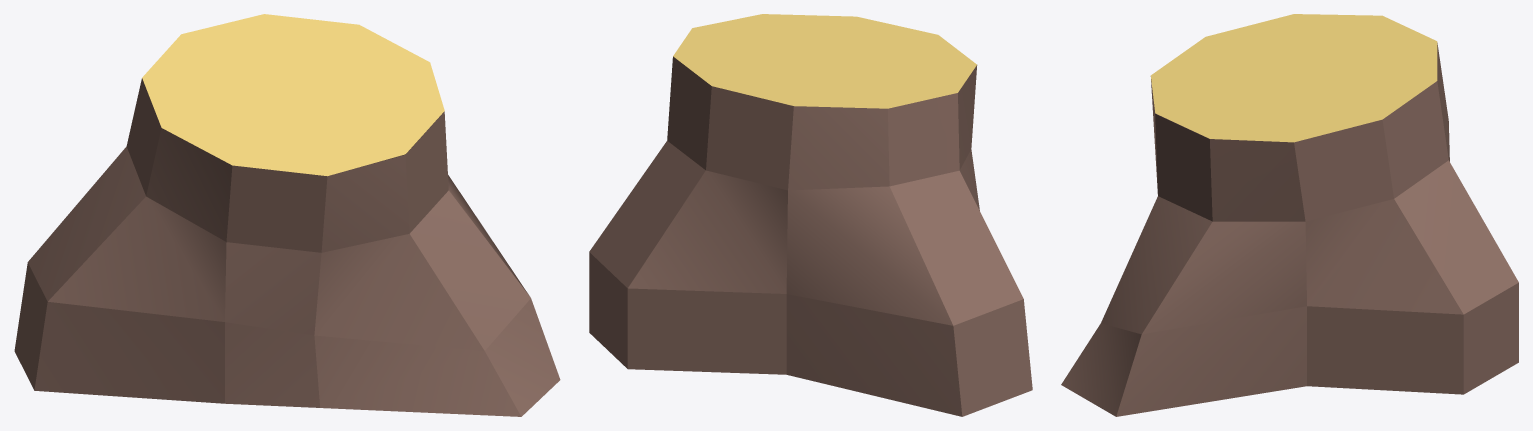
File: trunk3-flat.glb
3 views of the same model, side by side, from view 1: azimuth 30°, elevation 25°; view 2: azimuth 150°, elevation 25°; view 3: azimuth 270°, elevation 25° (orthographic). The views are drawn at different scales.
Visible parts, largest first — view 1: trunk_3; view 2: trunk_3; view 3: trunk_3.
Boxes of the visible parts, box(x1,y1,x2,y2) form: trunk_3: box(14, 14, 560, 416); trunk_3: box(589, 14, 1032, 416); trunk_3: box(1061, 14, 1518, 416).
Size of what is drawn, in the model's own units: 6.19 by 4.02 by 6.12.
1 material, 1 textured.
